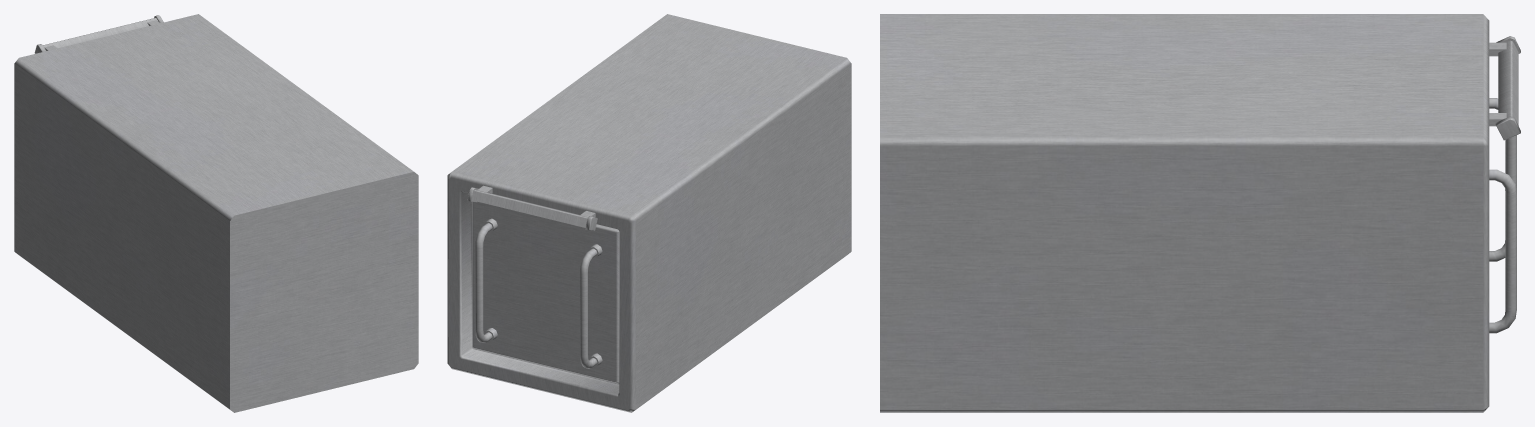
File: Shelves.glb
3 renders of one model, left to right at view 1: azimuth 30°, elevation 25°; view 2: azimuth 150°, elevation 25°; view 3: azimuth 270°, elevation 25°, orthographic. The views are drawn at different scales.
Parts seen in each view (by area): view 1: ShelfCorp; view 2: ShelfCorp; view 3: ShelfCorp.
Boxes of the visible parts, x1,y1,x2,y2 form: ShelfCorp: (14, 14, 418, 412); ShelfCorp: (447, 14, 851, 412); ShelfCorp: (880, 14, 1520, 412).
Bounding box in the file's own units: 1 × 1 × 2.1.
2 materials, 1 textured.
